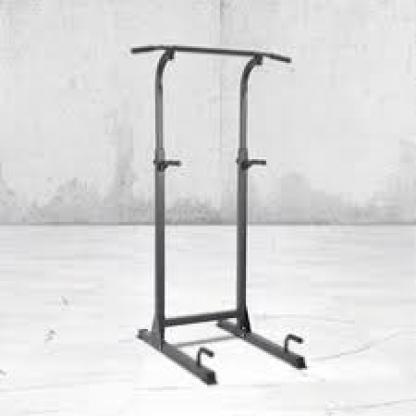chinning dipping: (129, 45, 309, 386)
